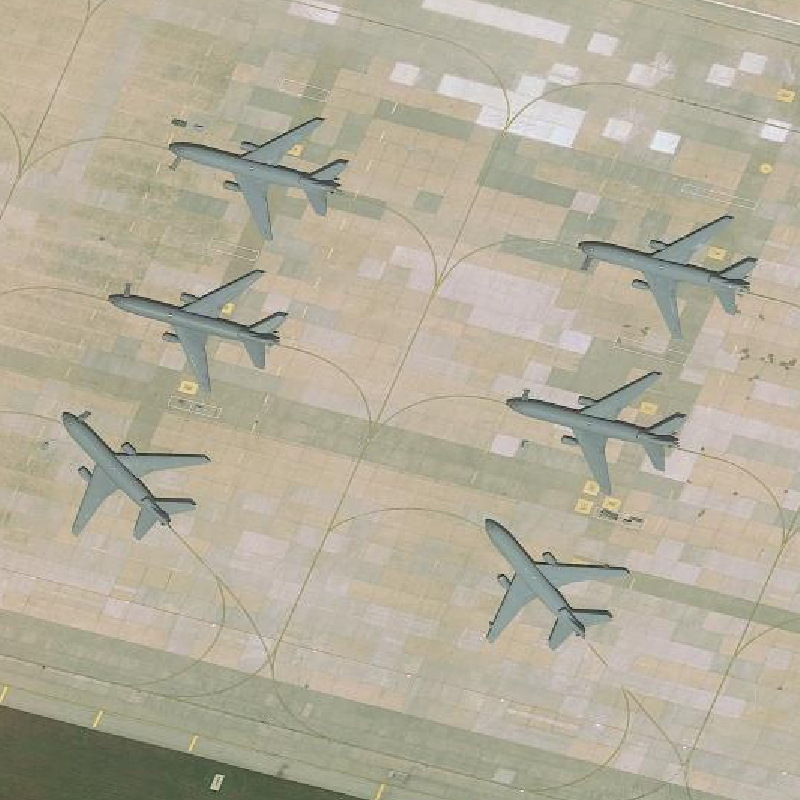A18: (160, 106, 355, 249), (569, 204, 762, 348), (498, 367, 692, 500), (104, 266, 293, 398), (54, 402, 221, 550), (473, 506, 635, 655)
